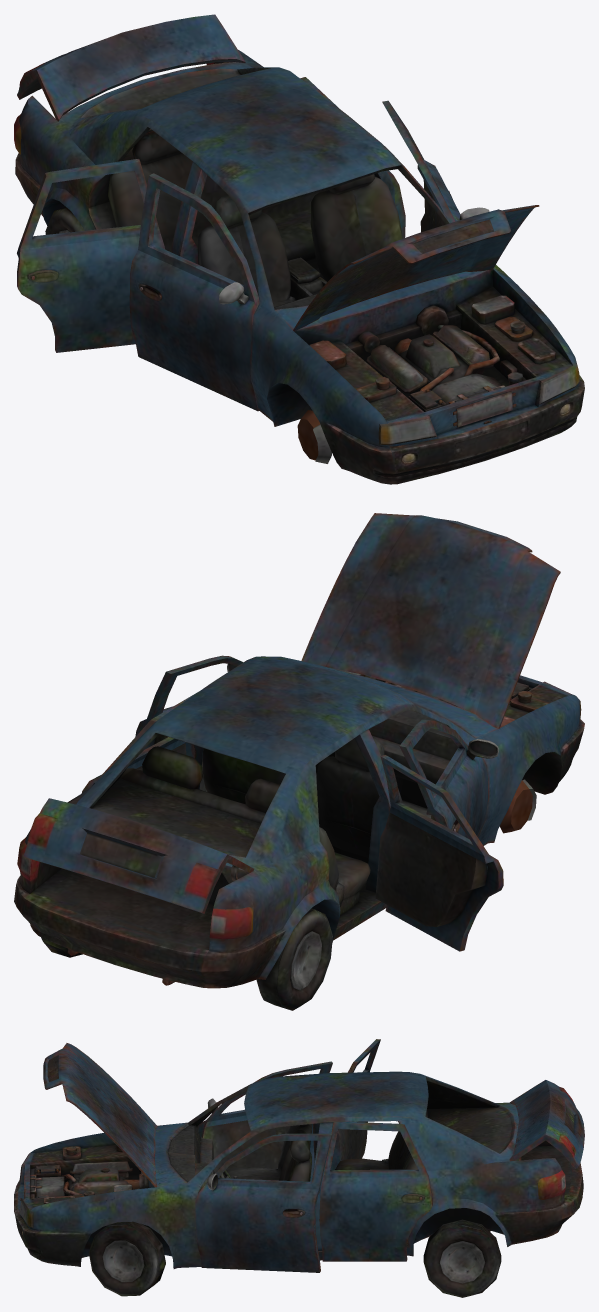
File: sedan.glb
3 renders of one model, top to bottom at view 1: azimuth 30°, elevation 25°; view 2: azimuth 150°, elevation 25°; view 3: azimuth 270°, elevation 25°, orthographic. The views are drawn at different scales.
Visible parts, largest first — view 1: KUZA_0, Seats.001_6, ON QAPI_2, ARXA QAPI_3, Engine.001_8, BAQAJ_4, KAPOT_1, ON QAPI.001_12, SALON_5, TEKER.002_15, TEKER.003_11; view 2: KUZA_0, KAPOT_1, Seats.001_6, ARXA QAPI_3, BAQAJ_4, ON QAPI_2, TEKER.003_11, SALON_5, ON QAPI.001_12, TEKER.002_15, ARXA QAPI.001_13, Engine.001_8; view 3: KUZA_0, ON QAPI.001_12, ARXA QAPI.001_13, KAPOT_1, TEKER.001_14, TEKER.004_10, BAQAJ_4, ON QAPI_2, Engine.001_8, Seats.001_6, SALON_5, ARXA QAPI_3.
Part boxes in pixels (left/top/right/bottom): KUZA_0: left=14, top=50, right=584, bottom=484; Seats.001_6: left=108, top=129, right=402, bottom=306; ON QAPI_2: left=129, top=173, right=259, bottom=411; ARXA QAPI_3: left=17, top=159, right=165, bottom=352; Engine.001_8: left=309, top=295, right=555, bottom=411; BAQAJ_4: left=17, top=14, right=245, bottom=121; KAPOT_1: left=293, top=205, right=539, bottom=331; ON QAPI.001_12: left=382, top=100, right=489, bottom=232; SALON_5: left=274, top=257, right=326, bottom=309; TEKER.002_15: left=297, top=410, right=331, bottom=463; TEKER.003_11: left=45, top=207, right=84, bottom=234; KUZA_0: left=14, top=656, right=584, bottom=988; KAPOT_1: left=301, top=513, right=560, bottom=728; Seats.001_6: left=120, top=737, right=431, bottom=915; ARXA QAPI_3: left=375, top=755, right=503, bottom=951; BAQAJ_4: left=23, top=798, right=253, bottom=913; ON QAPI_2: left=399, top=719, right=498, bottom=838; TEKER.003_11: left=256, top=908, right=332, bottom=1010; SALON_5: left=319, top=710, right=458, bottom=826; ON QAPI.001_12: left=135, top=655, right=243, bottom=791; TEKER.002_15: left=499, top=779, right=536, bottom=833; ARXA QAPI.001_13: left=81, top=692, right=197, bottom=793; Engine.001_8: left=333, top=668, right=549, bottom=727; KUZA_0: left=14, top=1071, right=583, bottom=1268; ON QAPI.001_12: left=195, top=1133, right=332, bottom=1272; ARXA QAPI.001_13: left=319, top=1122, right=432, bottom=1261; KAPOT_1: left=43, top=1043, right=157, bottom=1187; TEKER.001_14: left=423, top=1219, right=501, bottom=1297; TEKER.004_10: left=88, top=1221, right=165, bottom=1296; BAQAJ_4: left=509, top=1080, right=584, bottom=1168; ON QAPI_2: left=198, top=1061, right=332, bottom=1181; Engine.001_8: left=35, top=1145, right=148, bottom=1203; Seats.001_6: left=223, top=1109, right=428, bottom=1181; SALON_5: left=168, top=1124, right=237, bottom=1192; ARXA QAPI_3: left=330, top=1039, right=380, bottom=1169.
Bounding box in the file's own units: 12.73 × 7.76 × 21.34.
Materials: 1 (1 with a texture image).
